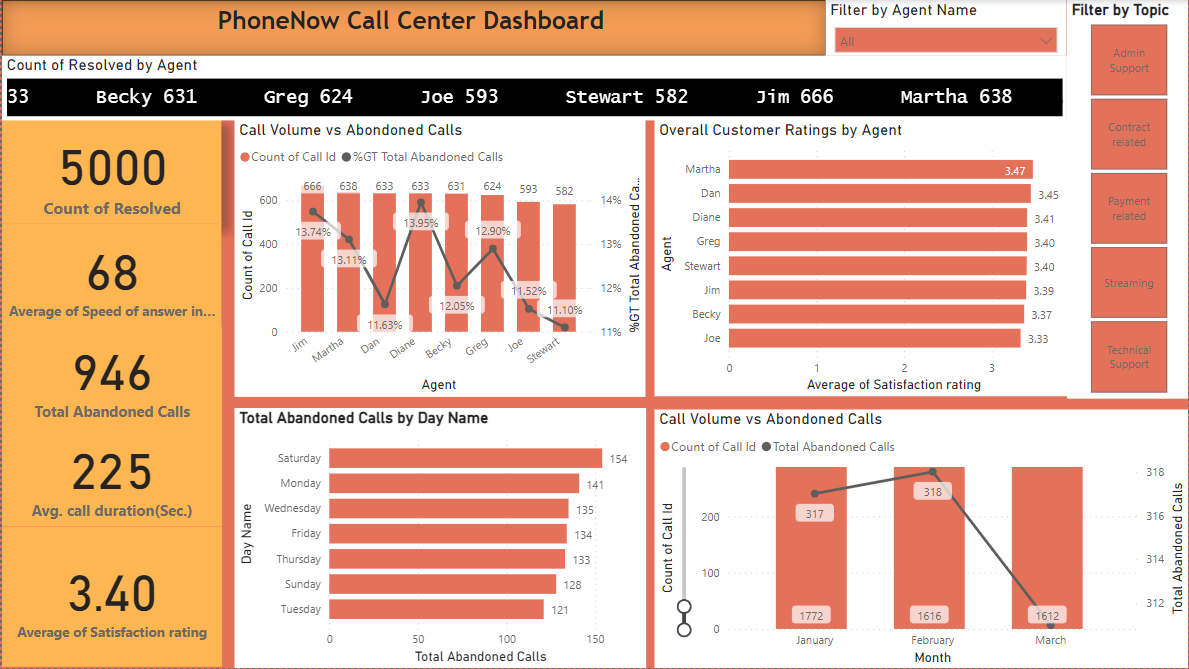

The dashboard page shown, as its layout file describes it:
{"tool":"powerbi","page":{"name":"Dashboard","canvas":[1280,720],"ordinal":0},"visuals":[{"type":"textbox","box":[0,0,888.3,60],"z":0},{"type":"card","title":"Call Resolved ","fields":{"Values":["Sheet1.Resolved"]},"box":[0,130,236.7,111.7],"z":1000},{"type":"card","title":"Avg. time to answer(sec)","fields":{"Values":["Sheet1.Speed of answer in seconds"]},"box":[0,241.7,236.7,111.7],"z":2000},{"type":"clusteredBarChart","title":"Overall Customer Ratings by Agent","fields":{"Category":["Sheet1.Agent"],"Y":["Sheet1.Satisfaction rating"]},"box":[703.4,129.8,445.1,298],"z":3000},{"type":"slicer","title":"Filter by Topic","fields":{"Values":["Sheet1.Topic"]},"box":[1148.3,0,131.7,430],"z":4000},{"type":"card","title":"Avg. Rating","fields":{"Values":["Sheet1.Satisfaction rating"]},"box":[0,568.3,237.1,151],"z":5000},{"type":"slicer","title":"Filter by Agent Name","fields":{"Values":["Sheet1.Agent"]},"box":[888.3,0,260,60],"z":6000},{"type":"card","fields":{"Values":["Sheet1.Total Abandoned Calls"]},"box":[0,352.3,237.1,104.6],"z":7000},{"type":"lineStackedColumnComboChart","title":"Call Volume vs Abondoned Calls ","fields":{"Category":["Sheet1.Date.Variation.Date Hierarchy.Month","Sheet1.Date.Variation.Date Hierarchy.Day"],"Y2":["Measures_used.Total Abandoned Calls"],"Y":["Sheet1.Call Id"]},"box":[703.4,441.1,576.2,279.5],"z":8000},{"type":"lineStackedColumnComboChart","title":"Call Volume vs Abondoned Calls ","fields":{"Category":["Sheet1.Agent"],"Y2":["Measures_used.Total Abandoned Calls"],"Y":["Sheet1.Call Id"]},"box":[250,130,443.3,298.3],"z":9000},{"type":"card","fields":{"Values":["Measures_used.test"]},"box":[0,457,237.1,111.3],"z":10000},{"type":"ScrollingTextVisual1448795304508","fields":{"Category":["Sheet1.Agent"],"Measure Absolute":["Sheet1.Resolved"]},"box":[0,60,1148.3,70],"z":11000},{"type":"clusteredBarChart","fields":{"Category":["Sheet1.Day Name"],"Y":["Measures_used.Total Abandoned Calls"]},"box":[250.3,439.8,443.7,280.8],"z":11001}]}

Visuals, with their boxes in screenshot pixels (x1, y1, x2, y2), scaled from the page's 1280x720 canvas onto the 1189x669 screenshot:
textbox: left=0, top=0, right=825, bottom=56
"Call Resolved " card: left=0, top=121, right=220, bottom=225
"Avg. time to answer(sec)" card: left=0, top=225, right=220, bottom=328
"Overall Customer Ratings by Agent" clusteredBarChart: left=653, top=121, right=1067, bottom=397
"Filter by Topic" slicer: left=1067, top=0, right=1188, bottom=400
"Avg. Rating" card: left=0, top=528, right=220, bottom=668
"Filter by Agent Name" slicer: left=825, top=0, right=1067, bottom=56
card - Sheet1.Total Abandoned Calls: left=0, top=327, right=220, bottom=425
"Call Volume vs Abondoned Calls " lineStackedColumnComboChart: left=653, top=410, right=1188, bottom=668
"Call Volume vs Abondoned Calls " lineStackedColumnComboChart: left=232, top=121, right=644, bottom=398
card - Measures_used.test: left=0, top=425, right=220, bottom=528
ScrollingTextVisual1448795304508 - Sheet1.Agent x Sheet1.Resolved: left=0, top=56, right=1067, bottom=121
clusteredBarChart - Sheet1.Day Name x Measures_used.Total Abandoned Calls: left=233, top=409, right=645, bottom=668
